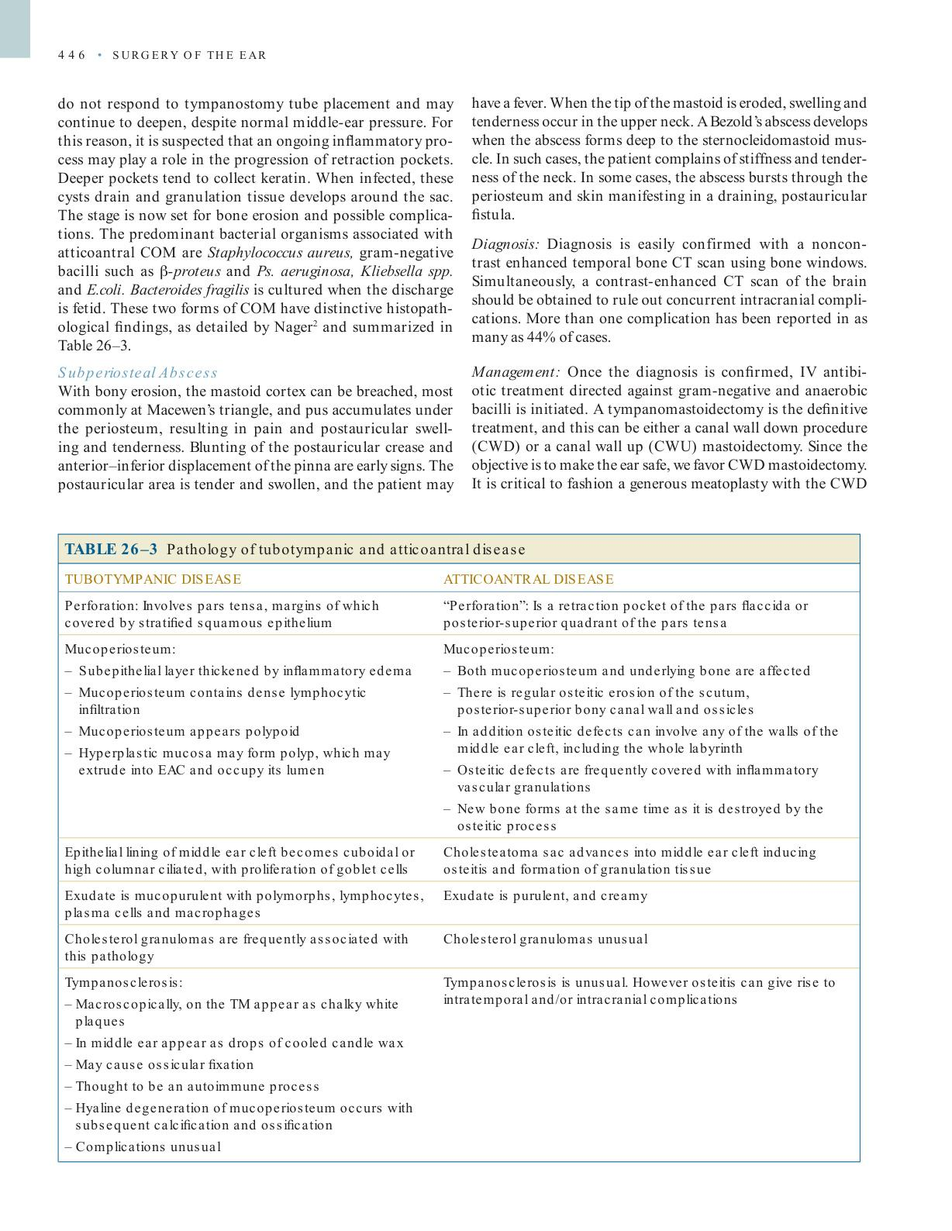caption: (165, 541, 527, 558)
header: (111, 49, 267, 59)
section-heading: (56, 364, 218, 382)
table: (57, 562, 863, 1163)
text: (468, 92, 869, 492), (55, 93, 456, 353), (57, 383, 454, 495)
